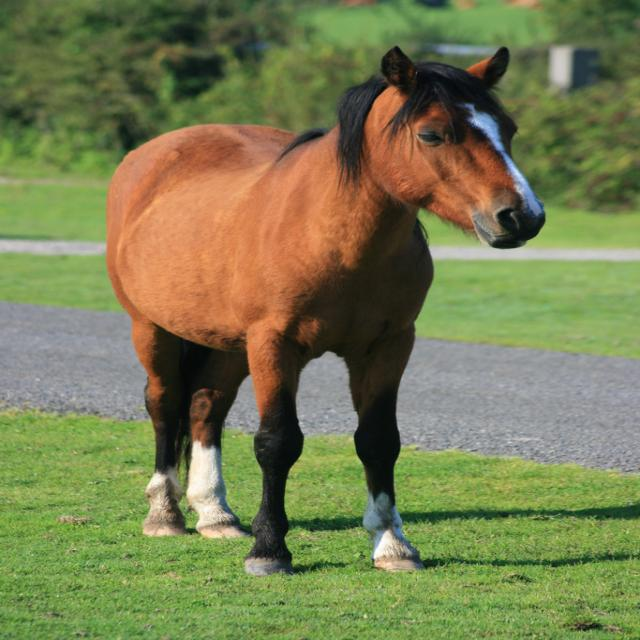Horse: (102, 44, 550, 580)
